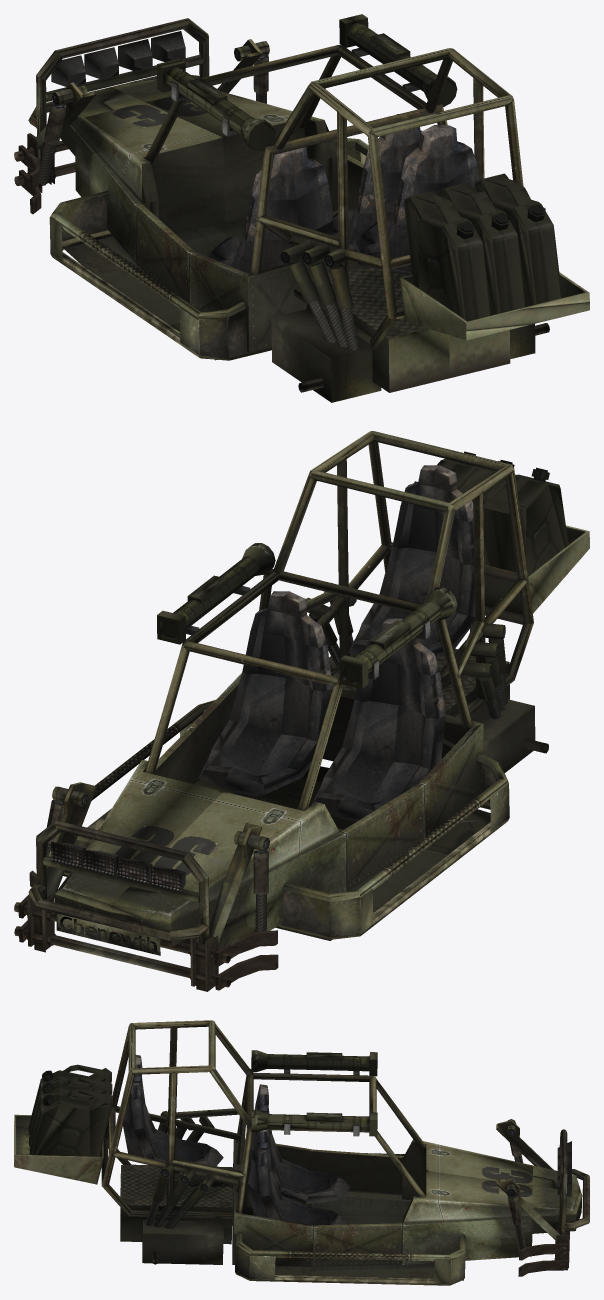
Rendered from buggy4.FBX.
The picture shows the model from 3 angles, top to bottom: view 1: azimuth 30°, elevation 25°; view 2: azimuth 150°, elevation 25°; view 3: azimuth 270°, elevation 25°; orthographic projection. The views are drawn at different scales.
Visible parts, largest first — view 1: buggy; view 2: buggy; view 3: buggy.
Boxes of the visible parts, <box> form: buggy: <box>14,14,589,402</box>; buggy: <box>14,431,589,991</box>; buggy: <box>14,1020,589,1285</box>.
Size of the model in its own units: 1248 by 1124 by 2957.
1 material, 1 textured.
